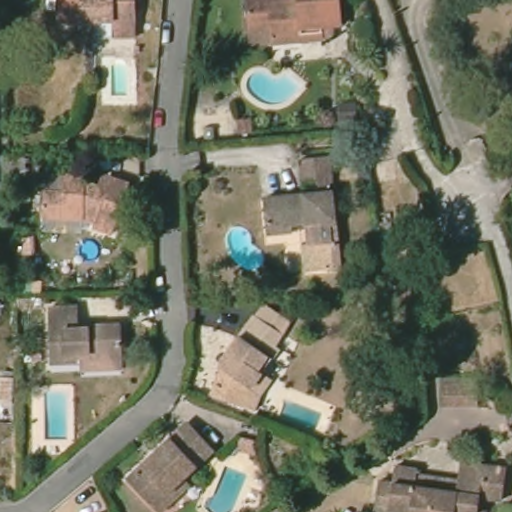pool: (238, 67, 312, 108), (199, 460, 254, 507), (220, 224, 270, 275), (35, 387, 77, 439), (277, 396, 333, 434), (99, 59, 137, 104), (76, 236, 104, 266)
